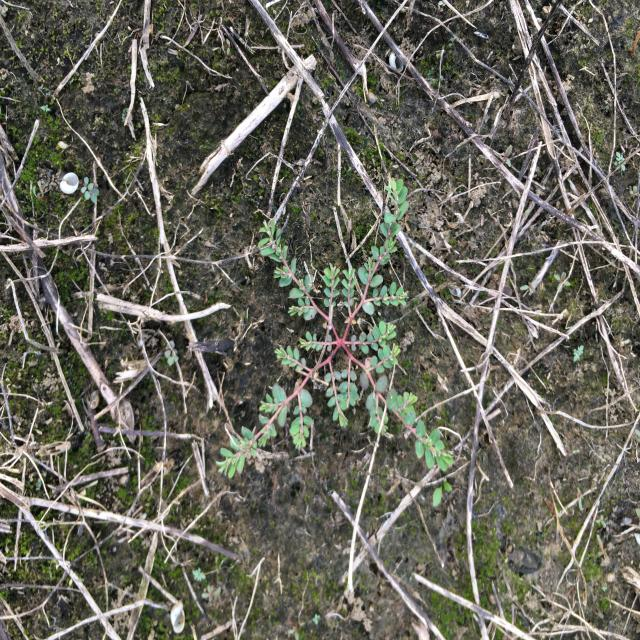SpottedSpurge: (214, 175, 456, 482)
